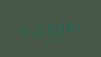four: (17, 22, 25, 39)
nine: (44, 20, 52, 36)
one: (26, 22, 34, 38), (71, 18, 79, 34)
six: (62, 18, 70, 35)
three: (53, 19, 61, 35)
zero: (35, 21, 43, 37)
